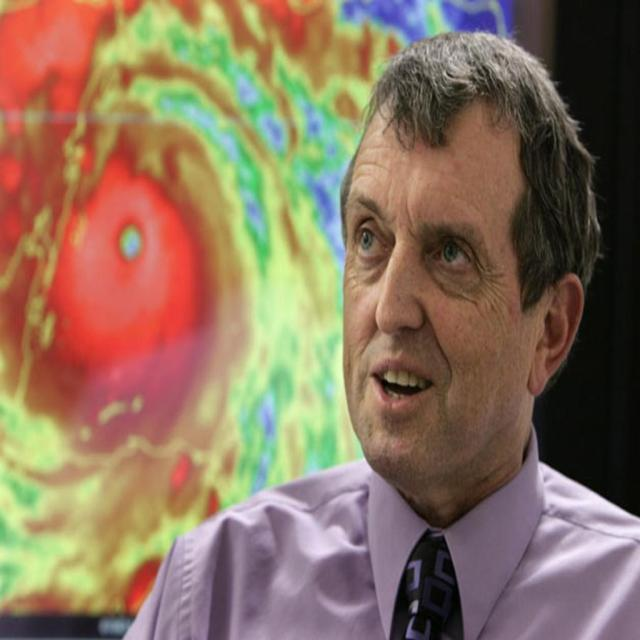Face: (326, 72, 561, 487)
